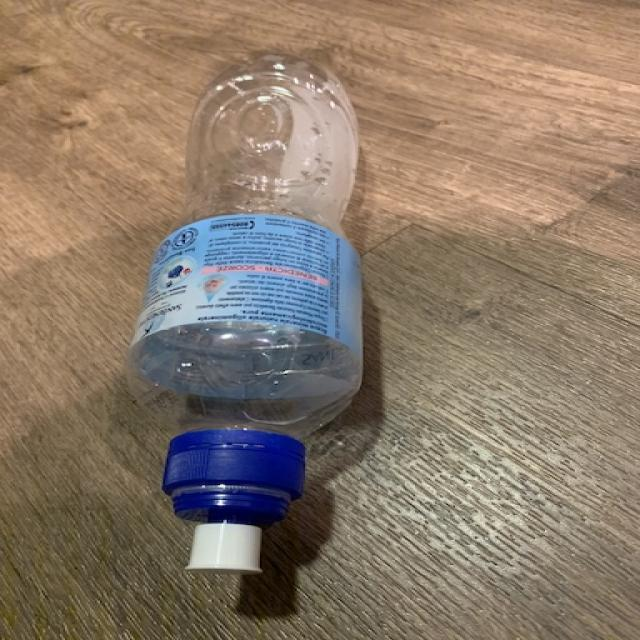plastic_bottle: (126, 52, 366, 576)
